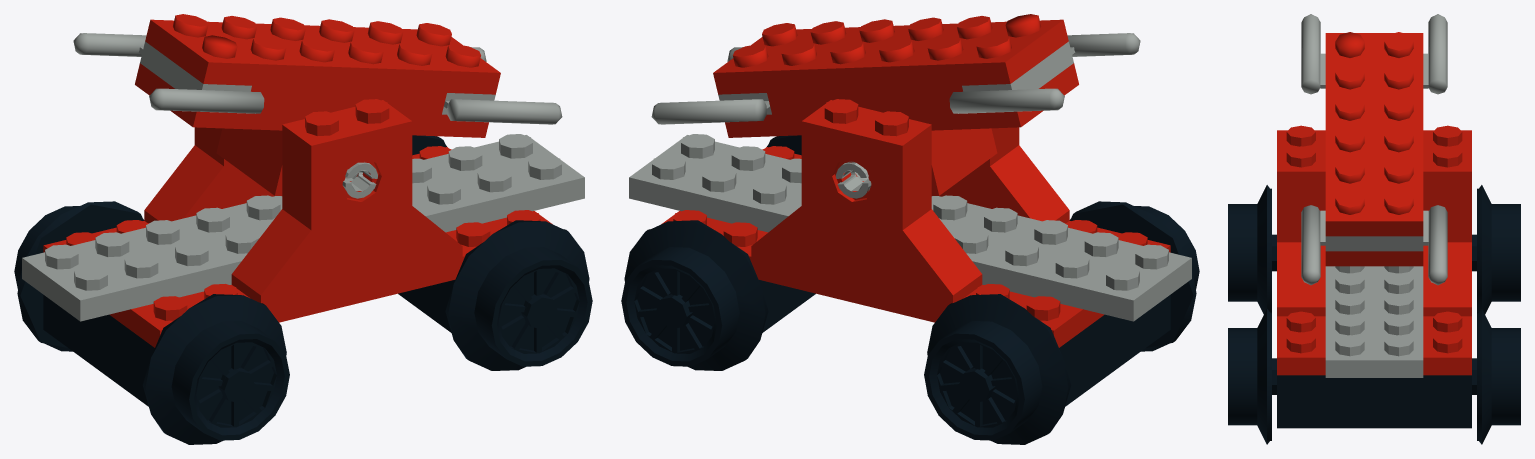
The model's file is Draisine.gltf.
3 views of the same model, side by side, from view 1: azimuth 30°, elevation 25°; view 2: azimuth 150°, elevation 25°; view 3: azimuth 270°, elevation 25° (orthographic). The views are drawn at different scales.
Visible parts, largest first — view 1: 3839a.dat, 3832.dat, 996.dat.003, 996.dat.001, 3040b.dat.003, 3035.dat, 3700.dat.001, 4179.dat, 3023.dat.001, 3040b.dat, 996.dat, 4179.dat.001 (+4 smaller); view 2: 3839a.dat, 3832.dat, 996.dat.002, 996.dat, 3040b.dat, 3035.dat, 3700.dat, 4179.dat, 3023.dat, 3040b.dat.003, 996.dat.001, 4179.dat.001 (+4 smaller); view 3: 3839a.dat, 3832.dat, 4179.dat.001, 3035.dat, 996.dat.002, 996.dat.003, 996.dat, 996.dat.001, 3023.dat, 3023.dat.001, 3040b.dat, 3040b.dat.003 (+2 smaller).
Boxes of the visible parts, x1,y1,x2,y2 form: 3839a.dat: [73, 14, 562, 137]; 3832.dat: [22, 134, 584, 321]; 996.dat.003: [445, 220, 592, 370]; 996.dat.001: [142, 294, 289, 444]; 3040b.dat.003: [231, 206, 462, 304]; 3035.dat: [43, 146, 552, 347]; 3700.dat.001: [282, 142, 412, 230]; 4179.dat: [43, 295, 254, 406]; 3023.dat.001: [282, 99, 412, 166]; 3040b.dat: [144, 145, 274, 223]; 996.dat: [14, 201, 144, 351]; 4179.dat.001: [398, 280, 557, 332]; 3839a.dat: [651, 14, 1140, 137]; 3832.dat: [629, 134, 1191, 321]; 996.dat.002: [621, 220, 768, 370]; 996.dat: [924, 294, 1071, 444]; 3040b.dat: [751, 206, 982, 304]; 3035.dat: [661, 146, 1170, 347]; 3700.dat: [801, 142, 931, 230]; 4179.dat: [959, 295, 1170, 406]; 3023.dat: [801, 99, 931, 166]; 3040b.dat.003: [939, 145, 1069, 223]; 996.dat.001: [1069, 201, 1199, 351]; 4179.dat.001: [656, 280, 815, 332]; 3839a.dat: [1301, 14, 1447, 285]; 3832.dat: [1325, 266, 1423, 377]; 4179.dat.001: [1277, 375, 1471, 428]; 3035.dat: [1277, 311, 1471, 375]; 996.dat.002: [1472, 309, 1520, 444]; 996.dat.003: [1228, 309, 1276, 444]; 996.dat: [1472, 185, 1520, 314]; 996.dat.001: [1228, 185, 1276, 314]; 3023.dat: [1423, 125, 1471, 189]; 3023.dat.001: [1277, 125, 1325, 189]; 3040b.dat: [1423, 242, 1471, 316]; 3040b.dat.003: [1277, 242, 1325, 316].
Size of the model in its own units: 80 by 54.08 by 48.
1 material, 1 textured.
